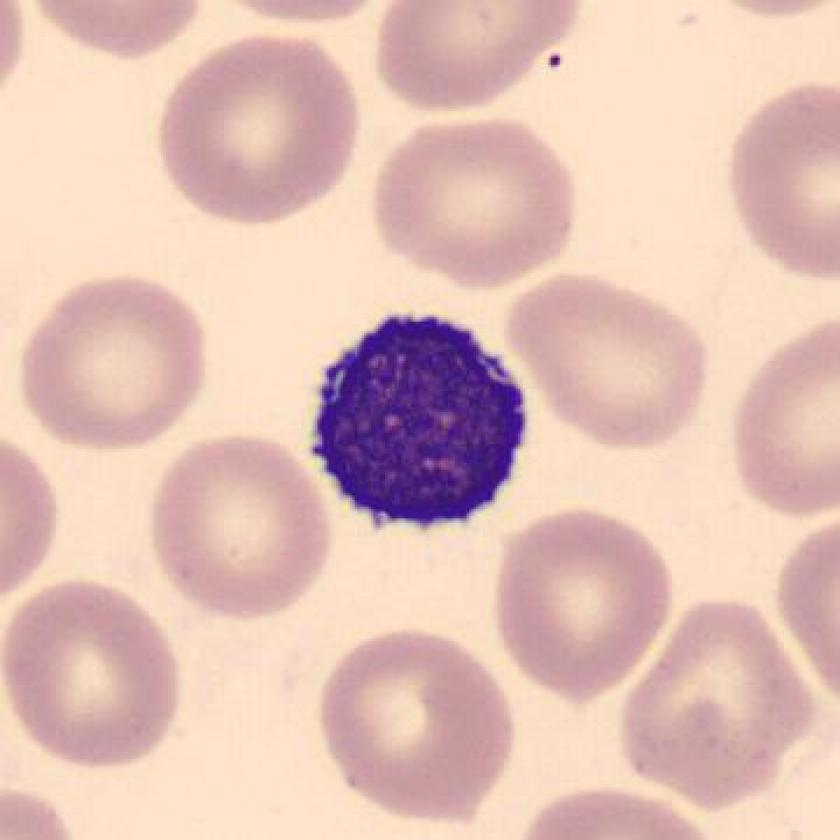lymphocyte: (295, 290, 542, 552)
